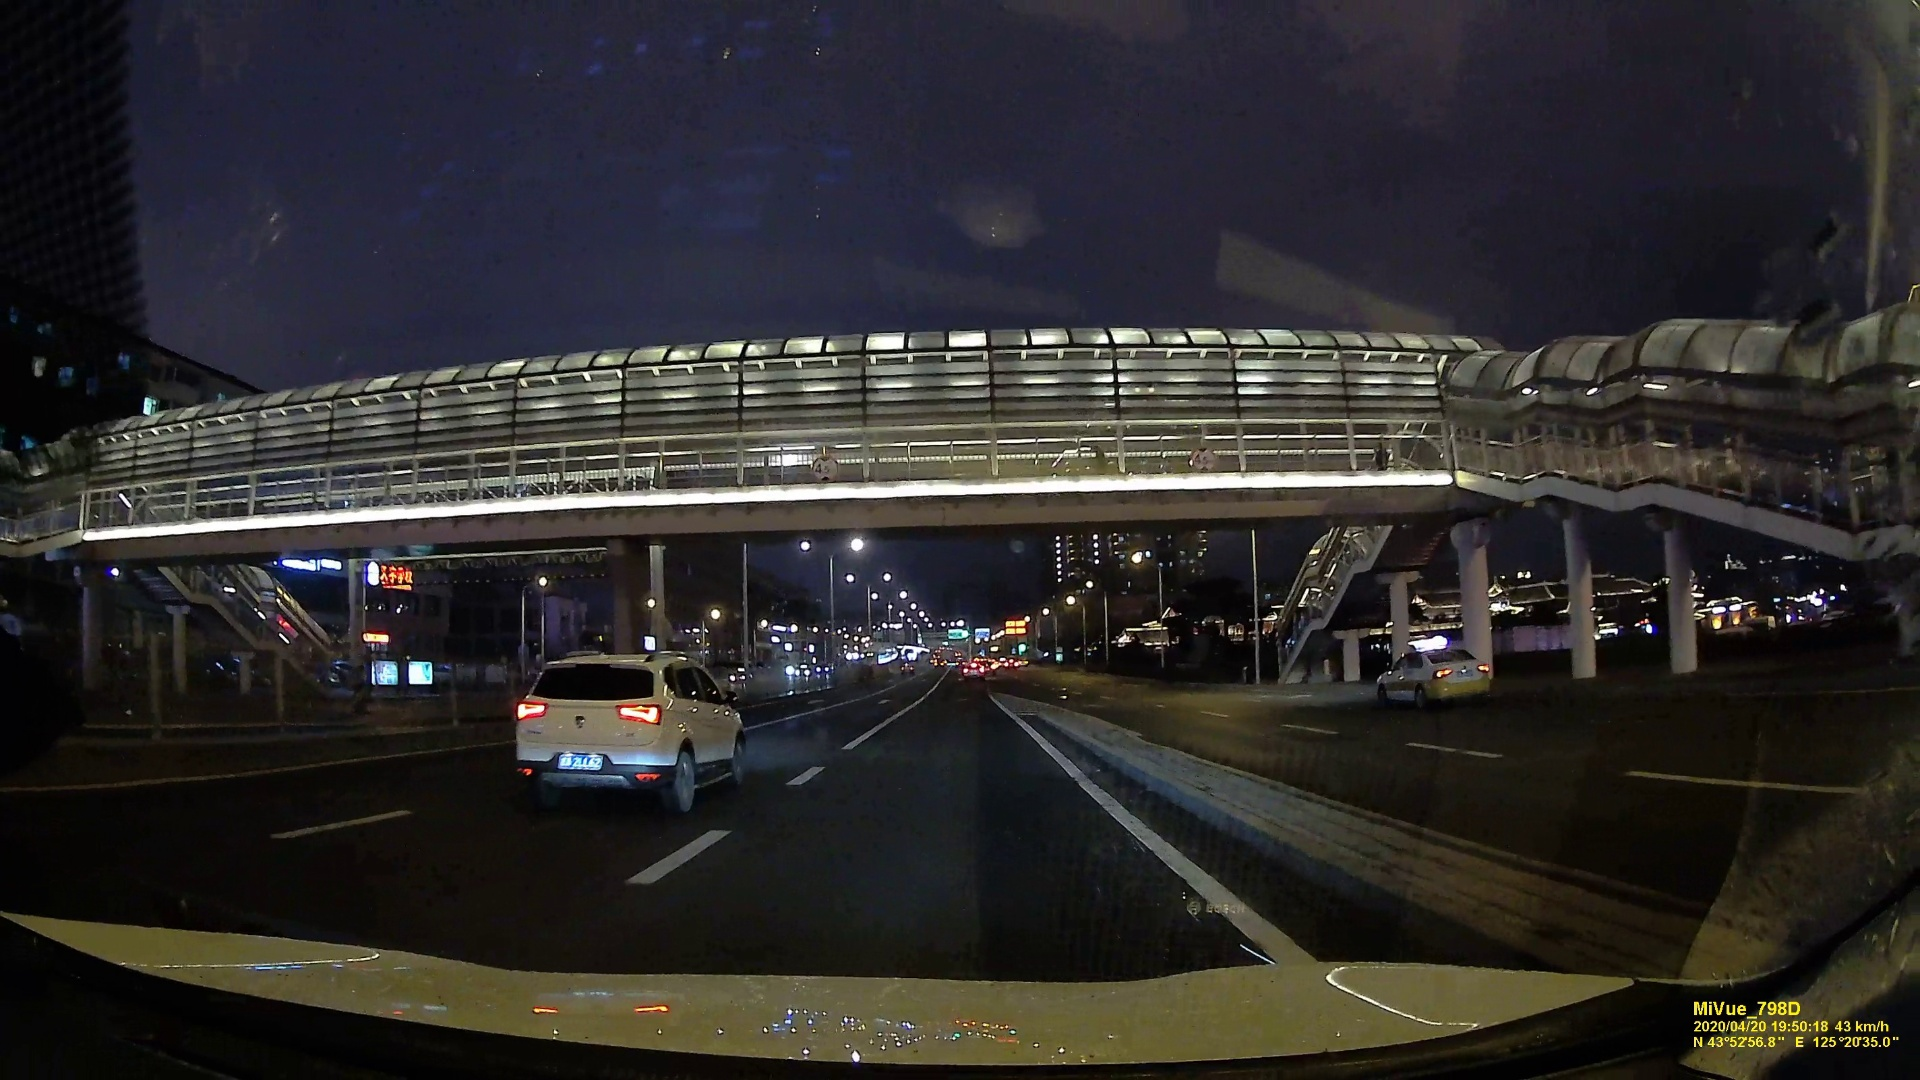traffic_sign: (808, 454, 841, 481), (1189, 444, 1217, 472)
vehicle: (512, 647, 746, 814), (1373, 647, 1499, 707), (963, 662, 985, 680)
